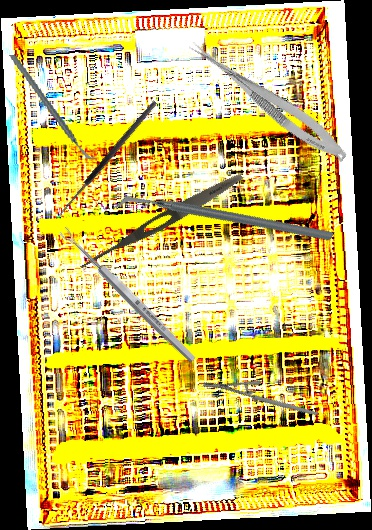Chopper: (112, 121, 336, 319), (8, 41, 98, 173)
Dressing Forceps: (77, 168, 246, 276)
Hook Surgical: (55, 99, 164, 225)
Micro Scissor: (181, 35, 354, 168)
Needle Holder: (200, 349, 320, 450)
Surgical Spoon: (58, 225, 198, 365)
